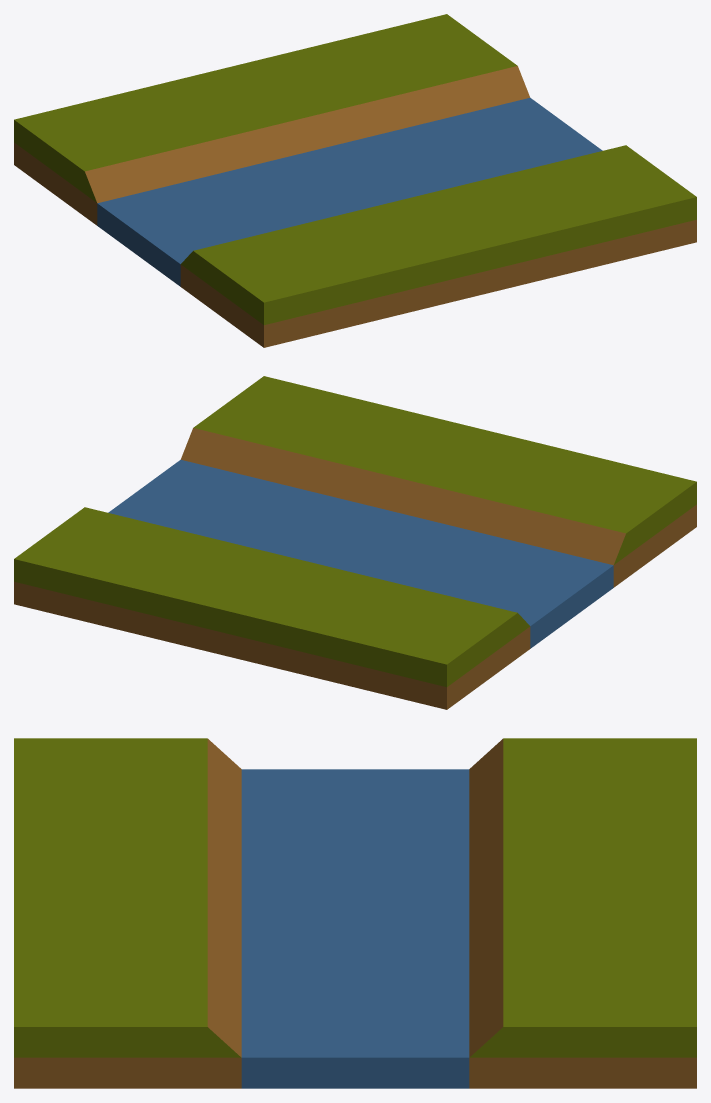
The model's file is ForestRiverStraight.fbx.
3 renders of one model, top to bottom at view 1: azimuth 30°, elevation 25°; view 2: azimuth 150°, elevation 25°; view 3: azimuth 270°, elevation 25°, orthographic. The views are drawn at different scales.
Parts seen in each view (by area): view 1: ForestRiverStraight; view 2: ForestRiverStraight; view 3: ForestRiverStraight.
Boxes of the visible parts, bbox=[...] form: ForestRiverStraight: bbox=[14, 14, 696, 347]; ForestRiverStraight: bbox=[14, 376, 696, 709]; ForestRiverStraight: bbox=[14, 738, 696, 1088].
Size of the model in its own units: 100 by 10 by 100.
